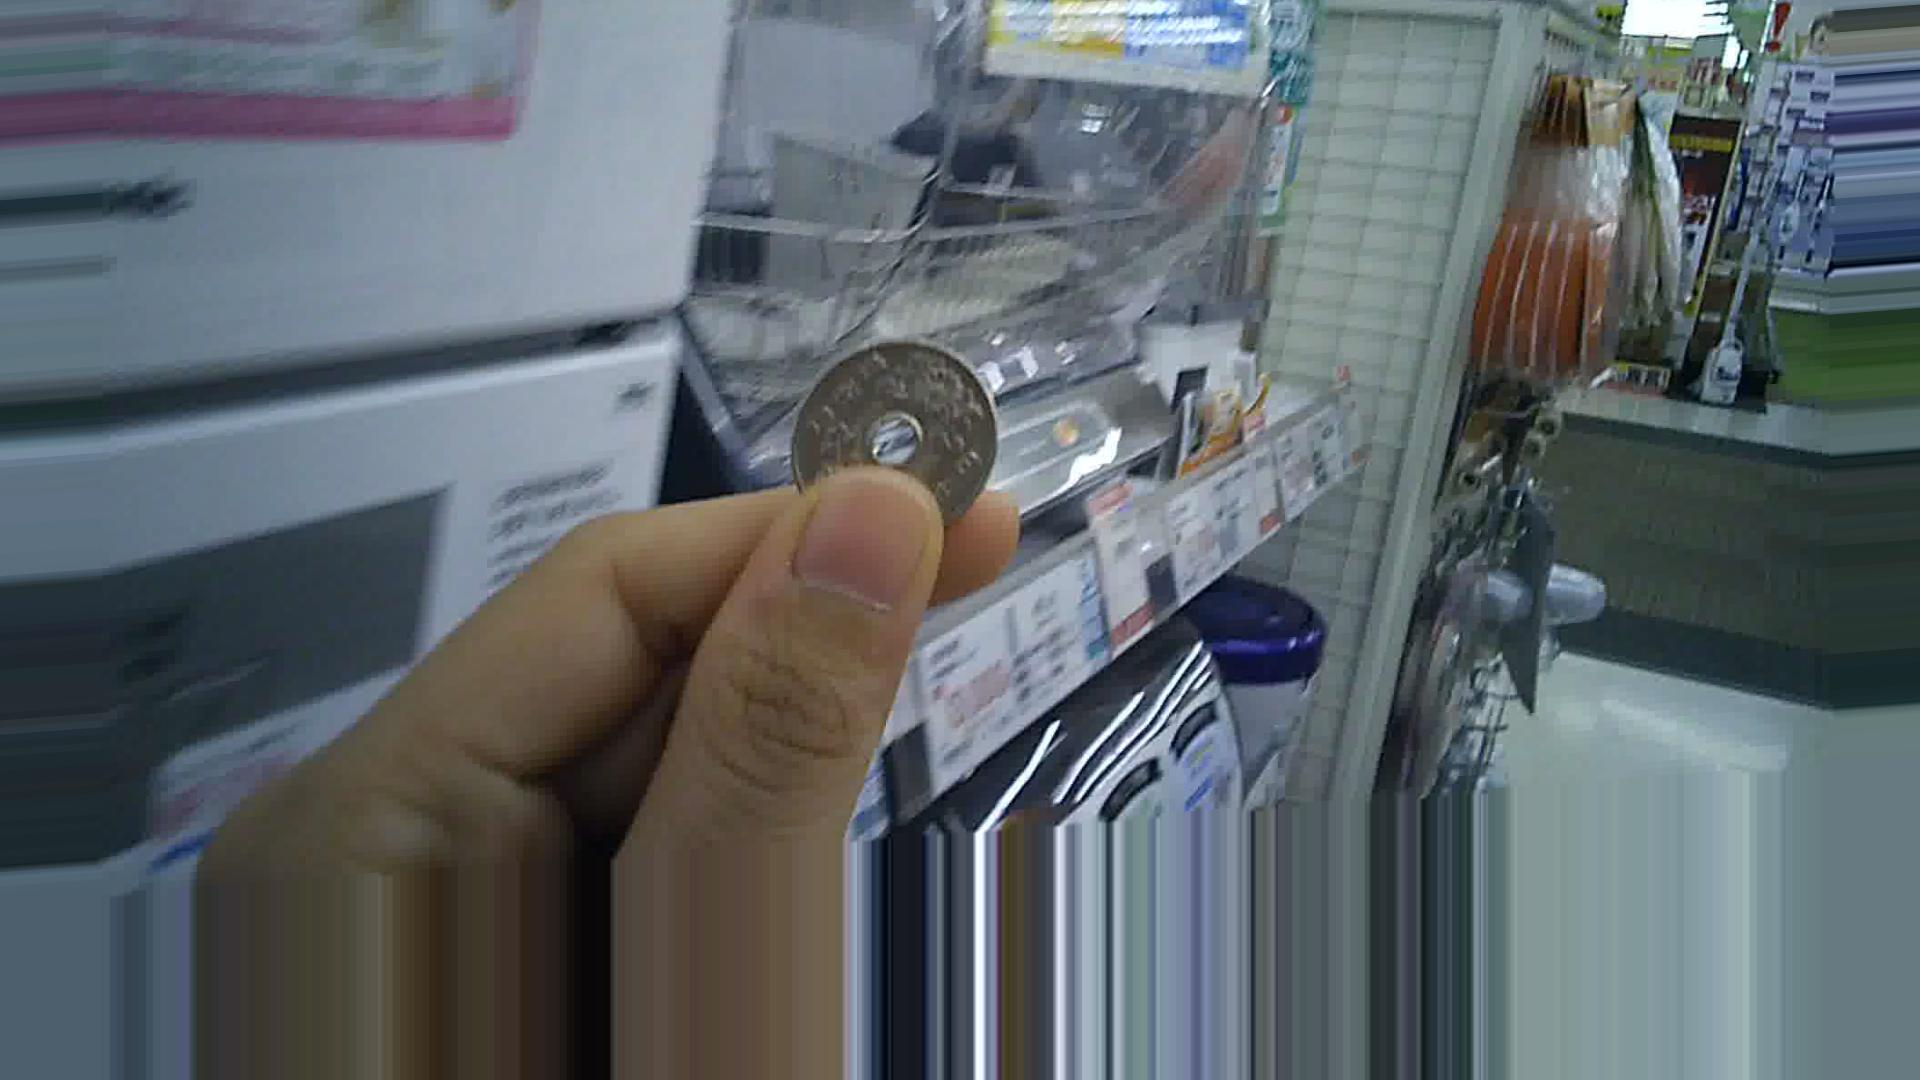50 Yen: (800, 318, 1000, 531)
